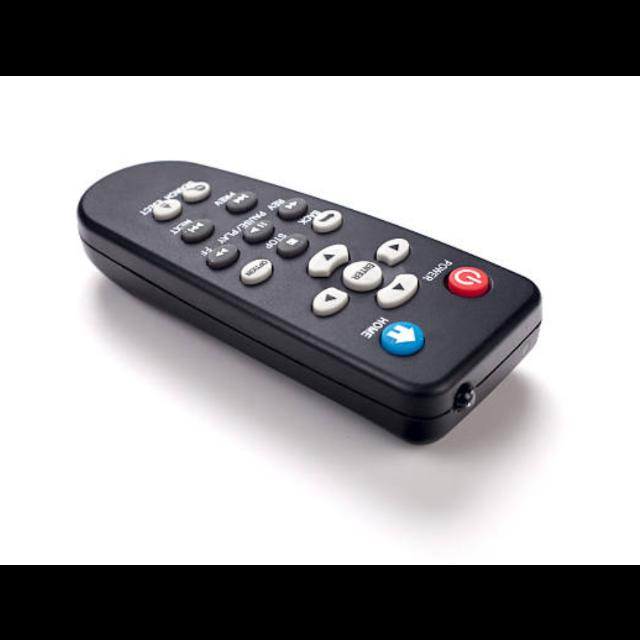TV-Remote-Control: (76, 159, 544, 447)
